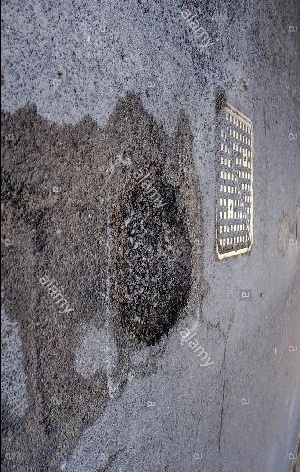pothole: (111, 157, 194, 347)
